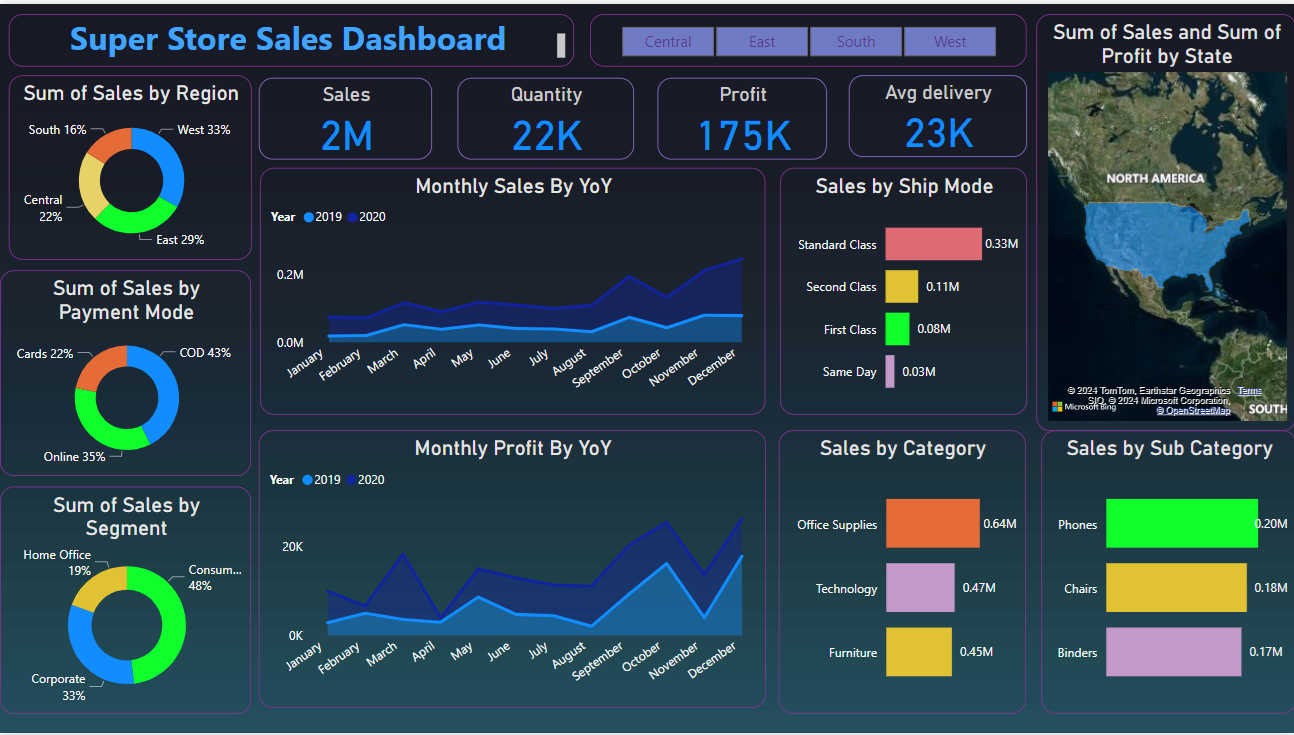

What the dashboard file says about the page in this screenshot:
{"tool":"powerbi","page":{"name":"Dashboard","canvas":[1280,720],"ordinal":0},"visuals":[{"type":"clusteredBarChart","title":" Sales by Category","fields":{"Y":["Sum(SuperStore_Sales_Dataset.Sales)"],"Category":["SuperStore_Sales_Dataset.Category"]},"box":[769.7,421,243.7,279.9],"z":0},{"type":"clusteredBarChart","title":" Sales by Sub Category","fields":{"Y":["Sum(SuperStore_Sales_Dataset.Sales)"],"Category":["SuperStore_Sales_Dataset.Sub-Category"]},"box":[1027.9,421,252.1,279.9],"z":1000},{"type":"clusteredBarChart","title":" Sales by Ship Mode","fields":{"Y":["Sum(SuperStore_Sales_Dataset.Sales)"],"Category":["SuperStore_Sales_Dataset.Ship Mode"]},"box":[769.8,161.9,244.3,244.3],"z":2000},{"type":"stackedAreaChart","title":"Monthly Sales By YoY","fields":{"Y":["Sum(SuperStore_Sales_Dataset.Sales)"],"Category":["SuperStore_Sales_Dataset.Order Date.Variation.Date Hierarchy.Month","SuperStore_Sales_Dataset.Order Date.Variation.Date Hierarchy.Day"],"Series":["SuperStore_Sales_Dataset.Order Date.Variation.Date Hierarchy.Year"]},"box":[256.6,161.9,499.5,244.3],"z":3000},{"type":"stackedAreaChart","title":"Monthly Profit By YoY","fields":{"Y":["Sum(SuperStore_Sales_Dataset.Profit)"],"Category":["SuperStore_Sales_Dataset.Order Date.Variation.Date Hierarchy.Month"],"Series":["SuperStore_Sales_Dataset.Order Date.Variation.Date Hierarchy.Year"]},"box":[255.2,421.3,500.9,274.4],"z":4000},{"type":"filledMap","fields":{"Category":["SuperStore_Sales_Dataset.State"]},"box":[1023.7,9.6,256.6,411.7],"z":5000},{"type":"donutChart","fields":{"Category":["SuperStore_Sales_Dataset.Segment"],"Y":["Sum(SuperStore_Sales_Dataset.Sales)"]},"box":[0,476.2,248.4,225],"z":6000},{"type":"donutChart","fields":{"Category":["SuperStore_Sales_Dataset.Payment Mode"],"Y":["Sum(SuperStore_Sales_Dataset.Sales)"]},"box":[0,263.5,248.4,203.1],"z":7000},{"type":"slicer","fields":{"Values":["SuperStore_Sales_Dataset.Region"]},"box":[583.2,9.6,430.9,52.1],"z":8000},{"type":"textbox","box":[8.2,9.6,558.5,52.1],"z":9000},{"type":"card","title":"Sales","fields":{"Values":["Sum(SuperStore_Sales_Dataset.Sales)"]},"box":[255.2,72.7,171.5,81],"z":10000},{"type":"card","title":"Quantity","fields":{"Values":["Sum(SuperStore_Sales_Dataset.Quantity)"]},"box":[451.5,72.7,174.3,81],"z":11000},{"type":"card","title":"Profit","fields":{"Values":["Sum(SuperStore_Sales_Dataset.Profit)"]},"box":[649.1,72.7,167.4,81],"z":12000},{"type":"card","title":"Avg delivery","fields":{"Values":["Sum(SuperStore_Sales_Dataset.Avgdelivery)"]},"box":[838.4,70,175.6,81],"z":13000},{"type":"donutChart","fields":{"Category":["SuperStore_Sales_Dataset.Region"],"Y":["Sum(SuperStore_Sales_Dataset.Sales)"]},"box":[8.2,70,240.1,182.5],"z":14000}]}

Visuals, with their boxes in screenshot pixels (x1, y1, x2, y2), scaled from the page's 1280x720 canvas onto the 1294x735 screenshot:
" Sales by Category" clusteredBarChart: left=778, top=430, right=1024, bottom=716
" Sales by Sub Category" clusteredBarChart: left=1039, top=430, right=1293, bottom=716
" Sales by Ship Mode" clusteredBarChart: left=778, top=165, right=1025, bottom=415
"Monthly Sales By YoY" stackedAreaChart: left=259, top=165, right=764, bottom=415
"Monthly Profit By YoY" stackedAreaChart: left=258, top=430, right=764, bottom=710
filledMap - SuperStore_Sales_Dataset.State: left=1035, top=10, right=1293, bottom=430
donutChart - SuperStore_Sales_Dataset.Segment x Sum(SuperStore_Sales_Dataset.Sales): left=0, top=486, right=251, bottom=716
donutChart - SuperStore_Sales_Dataset.Payment Mode x Sum(SuperStore_Sales_Dataset.Sales): left=0, top=269, right=251, bottom=476
slicer - SuperStore_Sales_Dataset.Region: left=590, top=10, right=1025, bottom=63
textbox: left=8, top=10, right=573, bottom=63
"Sales" card: left=258, top=74, right=431, bottom=157
"Quantity" card: left=456, top=74, right=633, bottom=157
"Profit" card: left=656, top=74, right=825, bottom=157
"Avg delivery" card: left=848, top=71, right=1025, bottom=154
donutChart - SuperStore_Sales_Dataset.Region x Sum(SuperStore_Sales_Dataset.Sales): left=8, top=71, right=251, bottom=258
